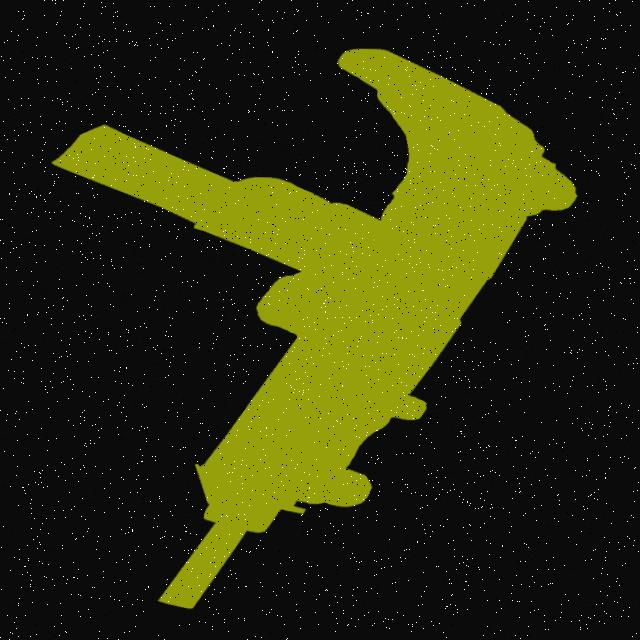firearm: (27, 40, 592, 615)
